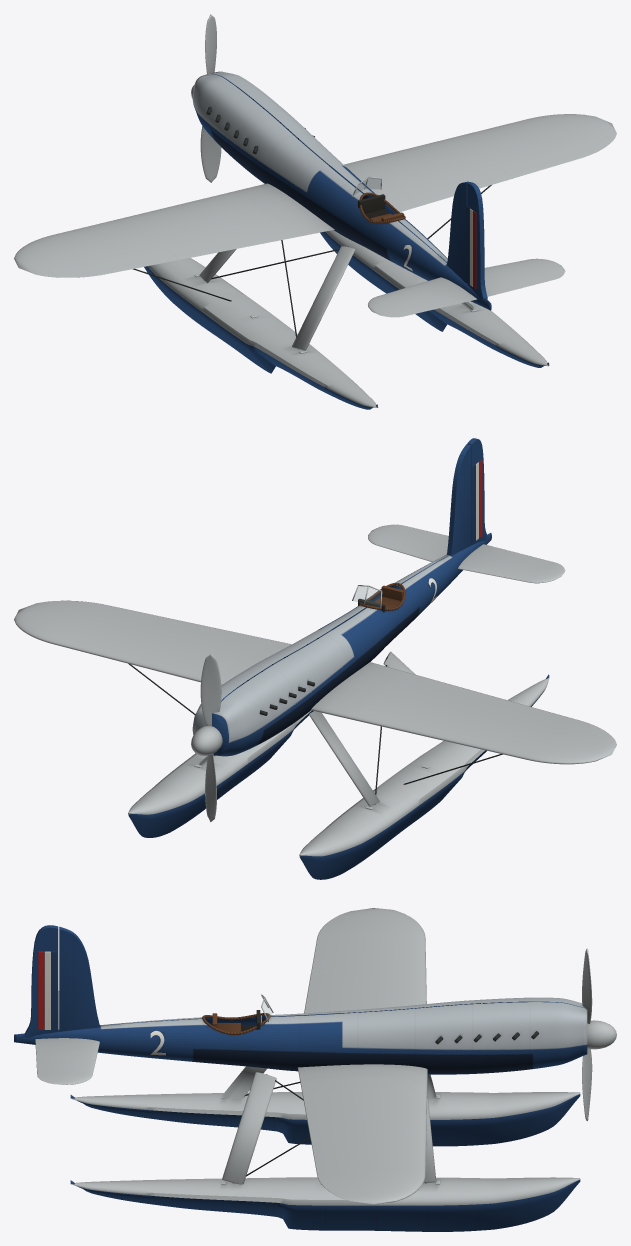
3 renders of one model, top to bottom at view 1: azimuth 30°, elevation 25°; view 2: azimuth 150°, elevation 25°; view 3: azimuth 270°, elevation 25°, orthographic. The views are drawn at different scales.
Visible parts, largest first — view 1: AircraftBody, Port hard-chine stepped float, Starboard hard-chine stepped float, Fitted trailing-edge aileron, Fitted trailing-edge aileron.001, Fitted tailplane elevator, Curved hinged rudder, Twisted propeller blade.001, Twisted propeller blade; view 2: AircraftBody, Port hard-chine stepped float, Starboard hard-chine stepped float, Twisted propeller blade, Fitted trailing-edge aileron, Fitted trailing-edge aileron.001, Fitted tailplane elevator, Curved hinged rudder, Spinner, Twisted propeller blade.001; view 3: AircraftBody, Starboard hard-chine stepped float, Port hard-chine stepped float, Curved hinged rudder, Fitted trailing-edge aileron.001, Fitted trailing-edge aileron, Spinner, Twisted propeller blade.001, Fitted tailplane elevator, Twisted propeller blade, Rudder national stripe.003, Rudder national stripe.004 (+1 smaller).
Boxes of the visible parts, box(x1,y1,x2,y2) form: AircraftBody: box(14, 71, 616, 353); Port hard-chine stepped float: box(144, 258, 378, 409); Starboard hard-chine stepped float: box(320, 230, 549, 367); Fitted trailing-edge aileron: box(49, 249, 178, 277); Fitted trailing-edge aileron.001: box(501, 134, 611, 178); Fitted tailplane elevator: box(381, 269, 564, 317); Curved hinged rudder: box(467, 182, 487, 300); Twisted propeller blade.001: box(200, 126, 221, 182); Twisted propeller blade: box(205, 14, 216, 75); AircraftBody: box(14, 444, 616, 809); Port hard-chine stepped float: box(299, 674, 549, 879); Starboard hard-chine stepped float: box(128, 710, 313, 837); Twisted propeller blade: box(200, 653, 221, 725); Fitted trailing-edge aileron: box(502, 702, 611, 740); Fitted trailing-edge aileron.001: box(49, 600, 178, 625); Fitted tailplane elevator: box(382, 524, 564, 571); Curved hinged rudder: box(467, 438, 487, 545); Spinner: box(191, 725, 222, 755); Twisted propeller blade.001: box(205, 754, 216, 822); AircraftBody: box(14, 908, 587, 1204); Starboard hard-chine stepped float: box(70, 1177, 580, 1231); Port hard-chine stepped float: box(70, 1092, 580, 1146); Curved hinged rudder: box(25, 925, 58, 1037); Fitted trailing-edge aileron.001: box(311, 1138, 349, 1194); Fitted trailing-edge aileron: box(311, 916, 349, 973); Spinner: box(587, 1020, 616, 1049); Twisted propeller blade.001: box(582, 1049, 592, 1121); Fitted tailplane elevator: box(35, 1038, 53, 1082); Twisted propeller blade: box(582, 948, 592, 1023); Rudder national stripe.003: box(51, 951, 57, 1029); Rudder national stripe.004: box(44, 951, 50, 1029).
Bounding box in the file's own units: 9.14 × 3.79 × 7.87.
10 materials, 2 textured.
